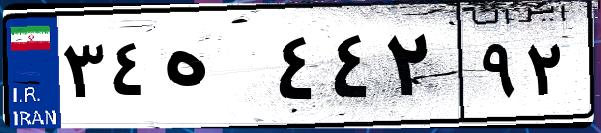2: (385, 28, 445, 110), (525, 38, 570, 115)
3: (57, 26, 110, 100)
4: (270, 28, 330, 110), (330, 28, 385, 110), (110, 28, 158, 98)
9: (475, 38, 525, 113)
ه: (158, 20, 270, 120)
